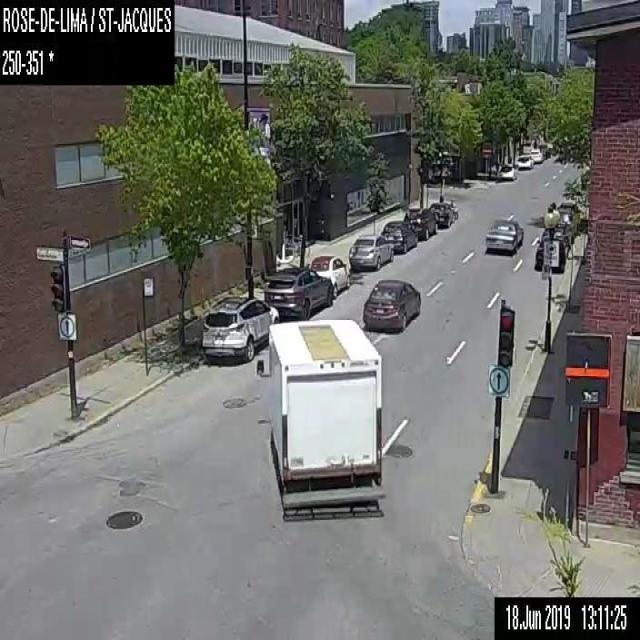vehicle: (256, 320, 386, 517), (201, 290, 281, 362), (264, 266, 332, 317), (362, 277, 420, 332), (309, 254, 351, 296), (349, 233, 394, 270), (484, 215, 524, 255), (534, 229, 566, 271), (379, 220, 418, 250), (402, 208, 438, 238), (429, 201, 453, 227), (497, 162, 518, 181), (514, 152, 534, 168)
